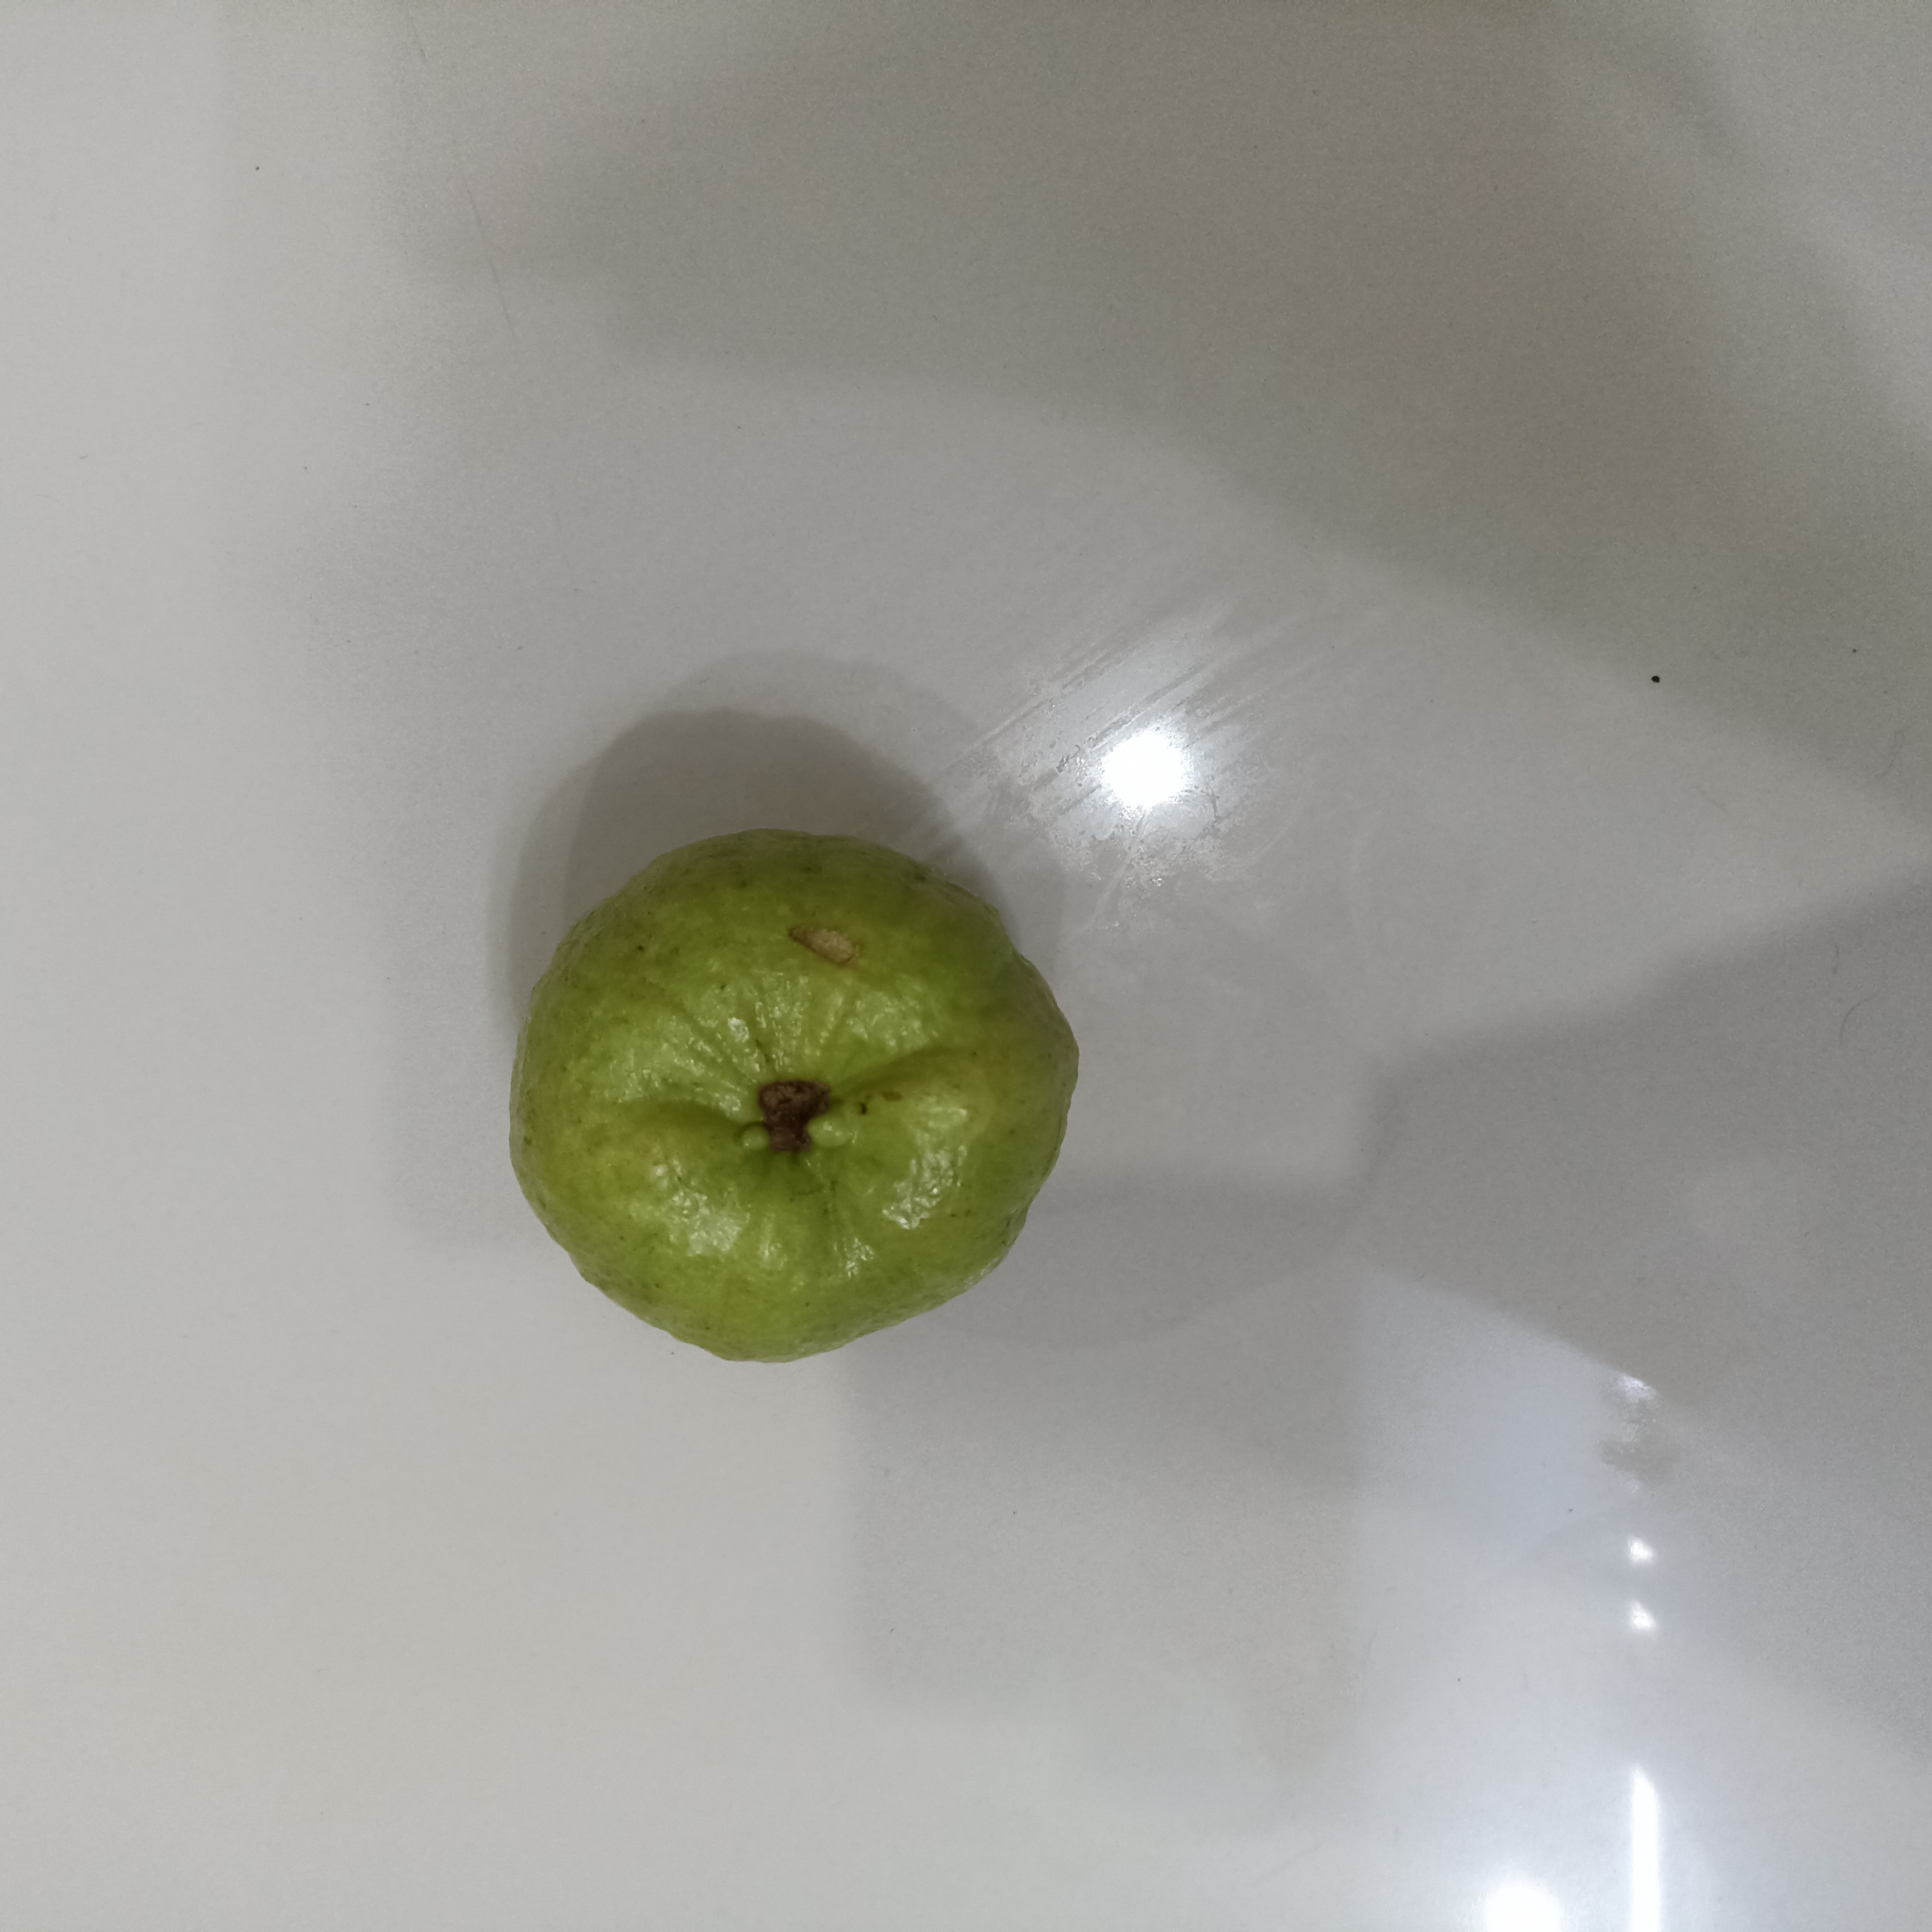Oi: (504, 835, 1085, 1366)
